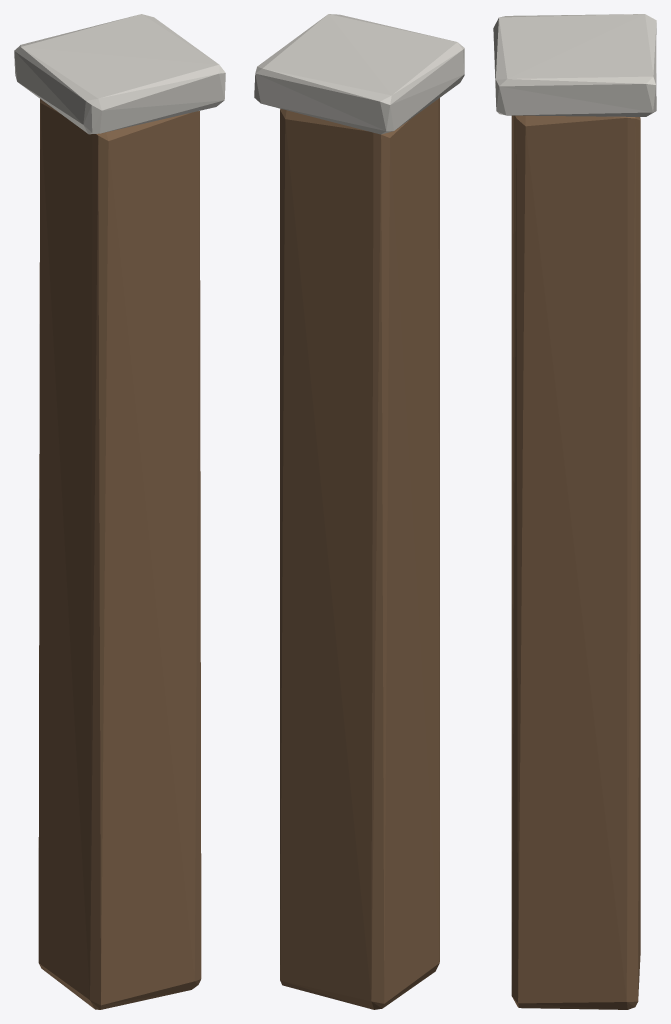
The model's file is SM_Kit_Fence_Picket_Post_LOD1.glb.
3 views of the same model, side by side, from view 1: azimuth 30°, elevation 25°; view 2: azimuth 150°, elevation 25°; view 3: azimuth 270°, elevation 25° (orthographic).
Parts seen in each view (by area): view 1: SM_Kit_Fence_Picket_Post_LOD1; view 2: SM_Kit_Fence_Picket_Post_LOD1; view 3: SM_Kit_Fence_Picket_Post_LOD1.
Part boxes in pixels (bbox=[...]): SM_Kit_Fence_Picket_Post_LOD1: bbox=[14, 14, 225, 1009]; SM_Kit_Fence_Picket_Post_LOD1: bbox=[254, 14, 464, 1009]; SM_Kit_Fence_Picket_Post_LOD1: bbox=[493, 14, 656, 1009].
Size of the model in its own units: 0.1774 by 1.13 by 0.1774.
